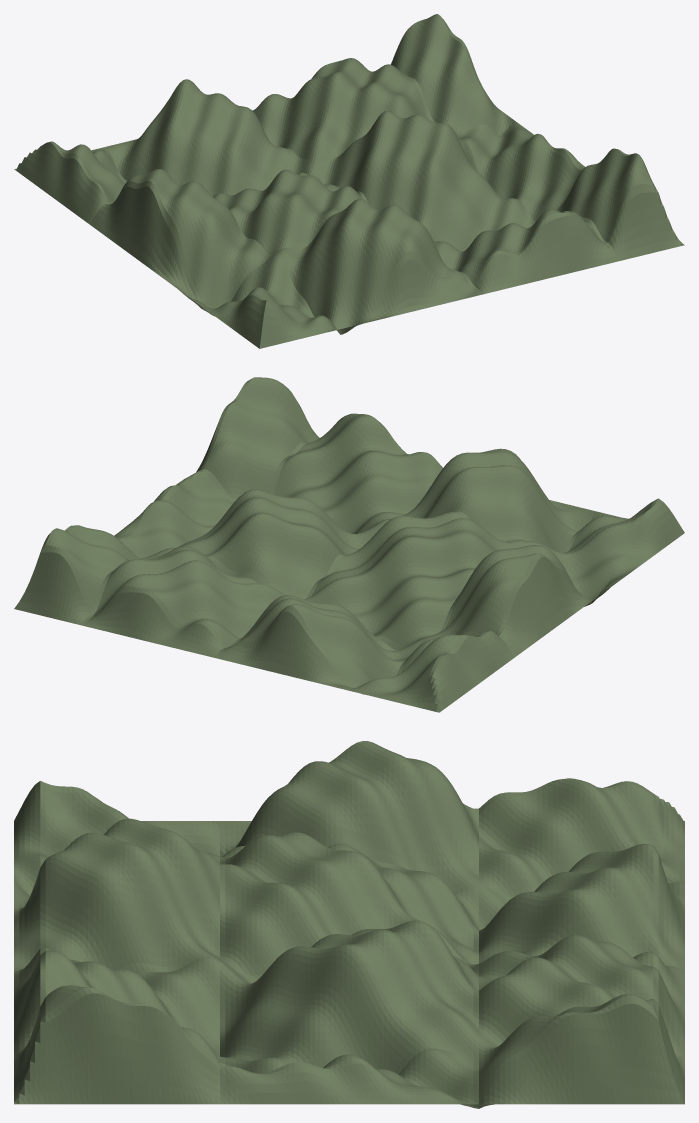
Rendered from harbor_mangrove_runnels.obj.
3 renders of one model, top to bottom at view 1: azimuth 30°, elevation 25°; view 2: azimuth 150°, elevation 25°; view 3: azimuth 270°, elevation 25°, orthographic. The views are drawn at different scales.
Visible parts, largest first — view 1: harbor_mangrove_runnels; view 2: harbor_mangrove_runnels; view 3: harbor_mangrove_runnels.
Boxes of the visible parts, x1=… form: harbor_mangrove_runnels: x1=14, y1=14, x2=684, y2=348; harbor_mangrove_runnels: x1=14, y1=377, x2=684, y2=712; harbor_mangrove_runnels: x1=14, y1=741, x2=684, y2=1108.
Bounding box in the file's own units: 28 × 6.9 × 28.
